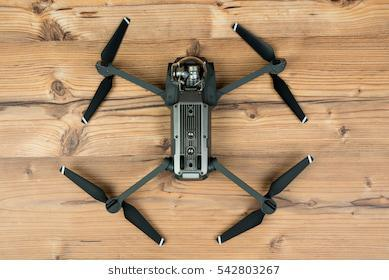drone: (59, 13, 317, 247)
